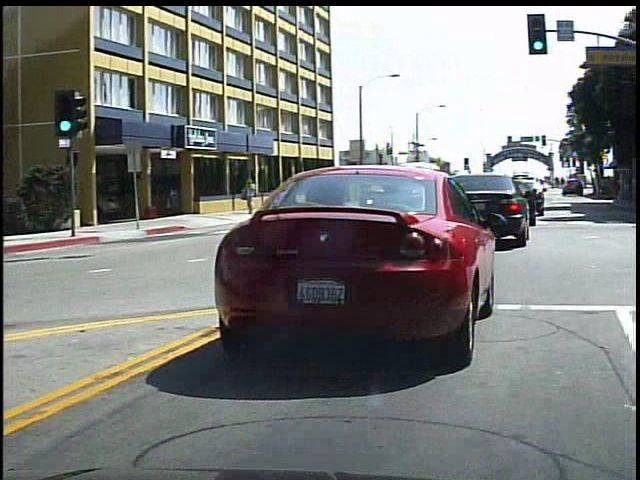person: (246, 174, 265, 214)
